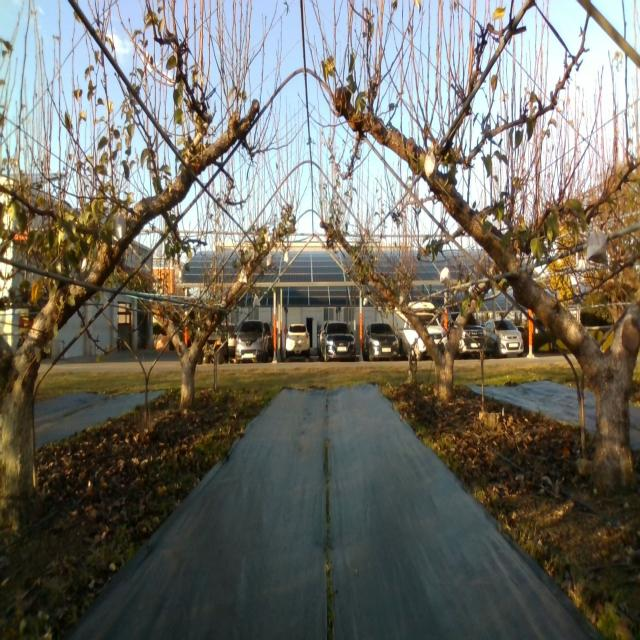pearbags: (586, 230, 609, 266), (112, 212, 127, 240), (425, 151, 437, 182), (440, 266, 450, 284)
